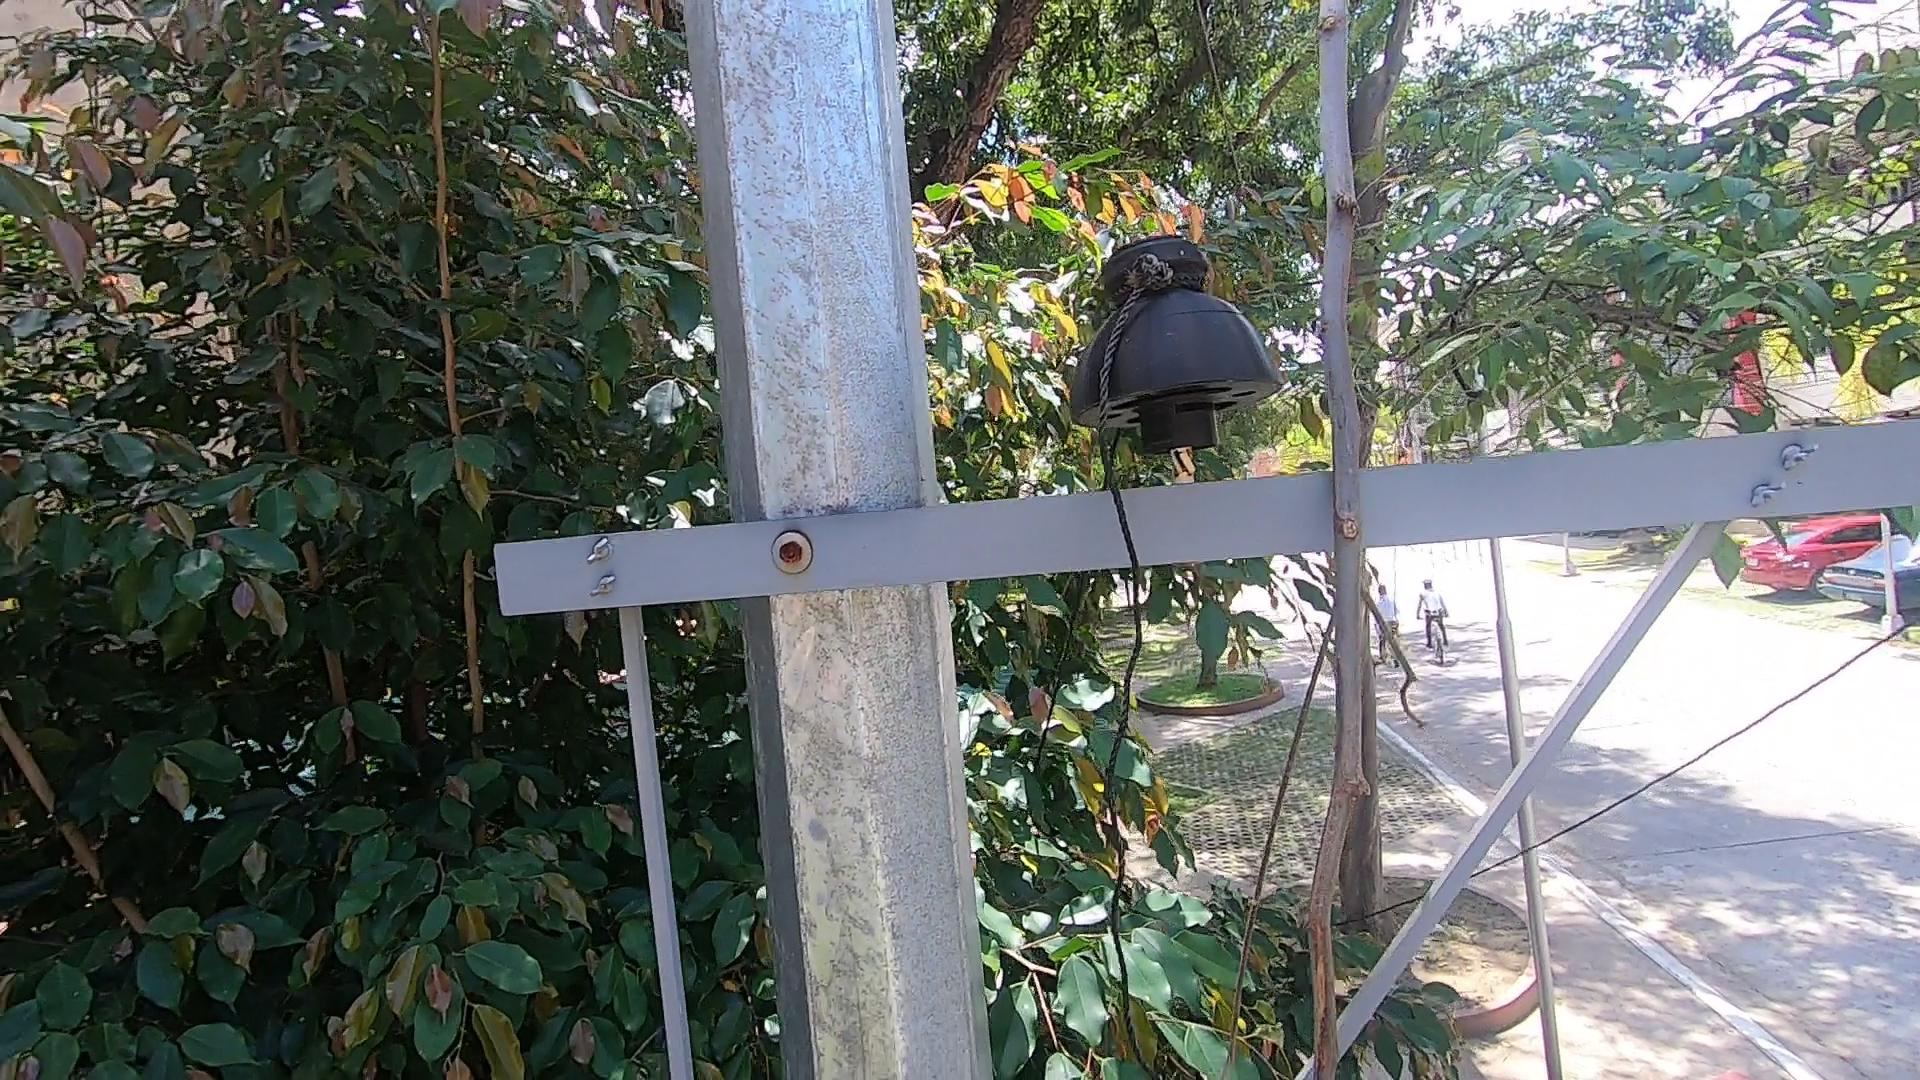tree branch: (1249, 5, 1460, 1080)
